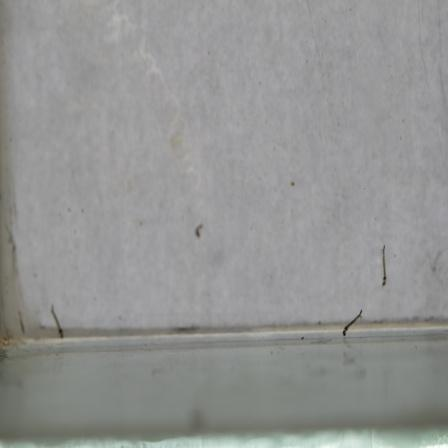Jentik-Nyamuk: (339, 307, 366, 340)
